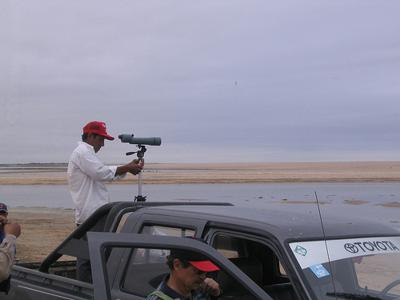person: (67, 122, 144, 234)
